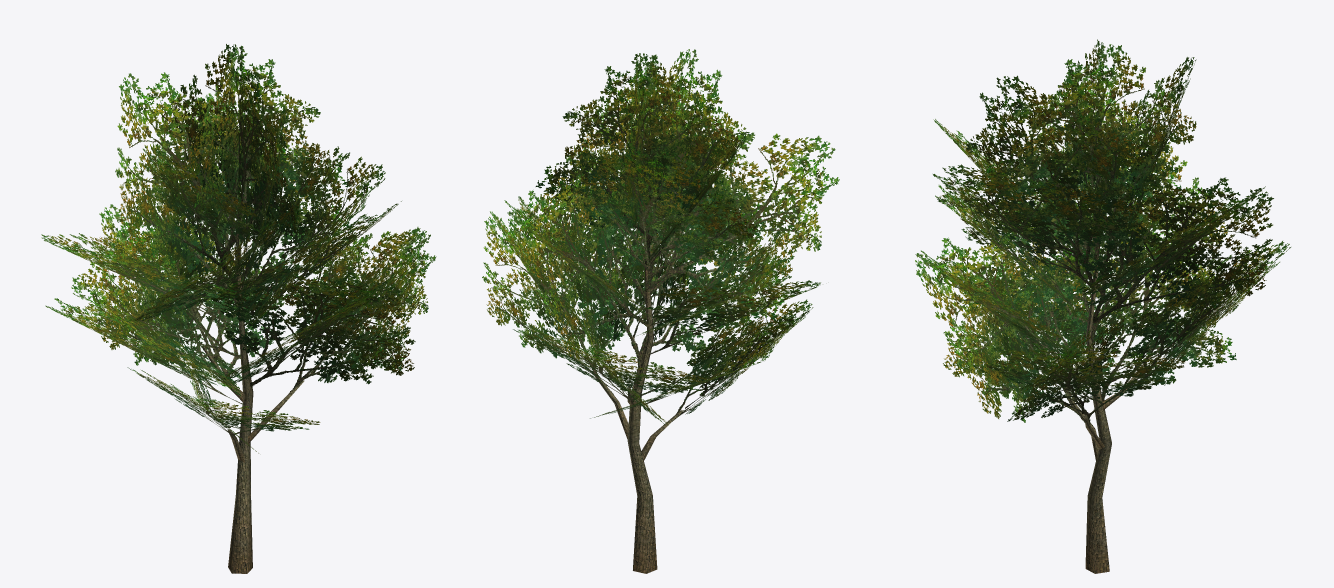
Rendered from tre_smalltree01.static.glb.
3 renders of one model, left to right at view 1: azimuth 30°, elevation 25°; view 2: azimuth 150°, elevation 25°; view 3: azimuth 270°, elevation 25°, orthographic.
Parts seen in each view (by area): view 1: tre_smalltree01, tre_smalltree01_bran; view 2: tre_smalltree01, tre_smalltree01_bran; view 3: tre_smalltree01, tre_smalltree01_bran.
Boxes of the visible parts, x1,y1,x2,y2 form: tre_smalltree01: (41, 44, 436, 453); tre_smalltree01_bran: (202, 264, 304, 573); tre_smalltree01: (482, 49, 839, 425); tre_smalltree01_bran: (594, 265, 683, 573); tre_smalltree01: (915, 39, 1290, 425); tre_smalltree01_bran: (1069, 258, 1150, 573).
Bounding box in the file's own units: 10.53 × 14.25 × 9.99.
Materials: 2 (2 with a texture image).
